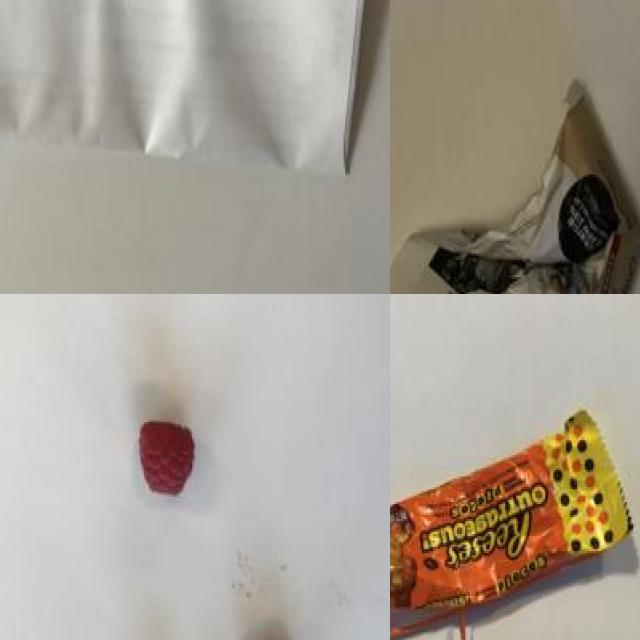compost: (131, 428, 311, 640)
paper: (0, 0, 373, 184), (390, 87, 640, 294)
trash: (390, 357, 640, 640)
